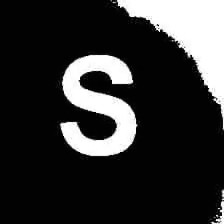LTR_S: (54, 49, 140, 161)
